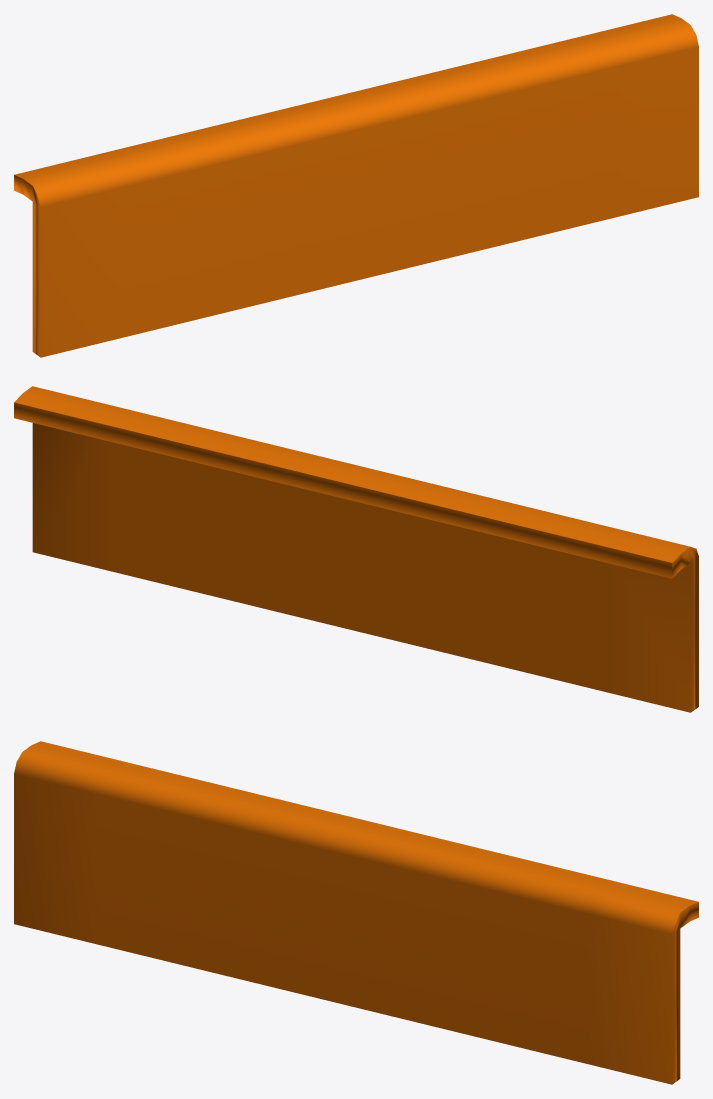
The model's file is Plastic_Pipe_B_Right.fbx.
The picture shows the model from 3 angles, top to bottom: view 1: azimuth 30°, elevation 25°; view 2: azimuth 150°, elevation 25°; view 3: azimuth 330°, elevation 25°; orthographic projection.
Parts seen in each view (by area): view 1: Plastic_Pipe_B_Right; view 2: Plastic_Pipe_B_Right; view 3: Plastic_Pipe_B_Right.
Boxes of the visible parts, x1=… form: Plastic_Pipe_B_Right: x1=14, y1=14, x2=698, y2=357; Plastic_Pipe_B_Right: x1=14, y1=386, x2=698, y2=712; Plastic_Pipe_B_Right: x1=14, y1=741, x2=698, y2=1084.
Bounding box in the file's own units: 10.23 × 2.47 × 0.7203.
